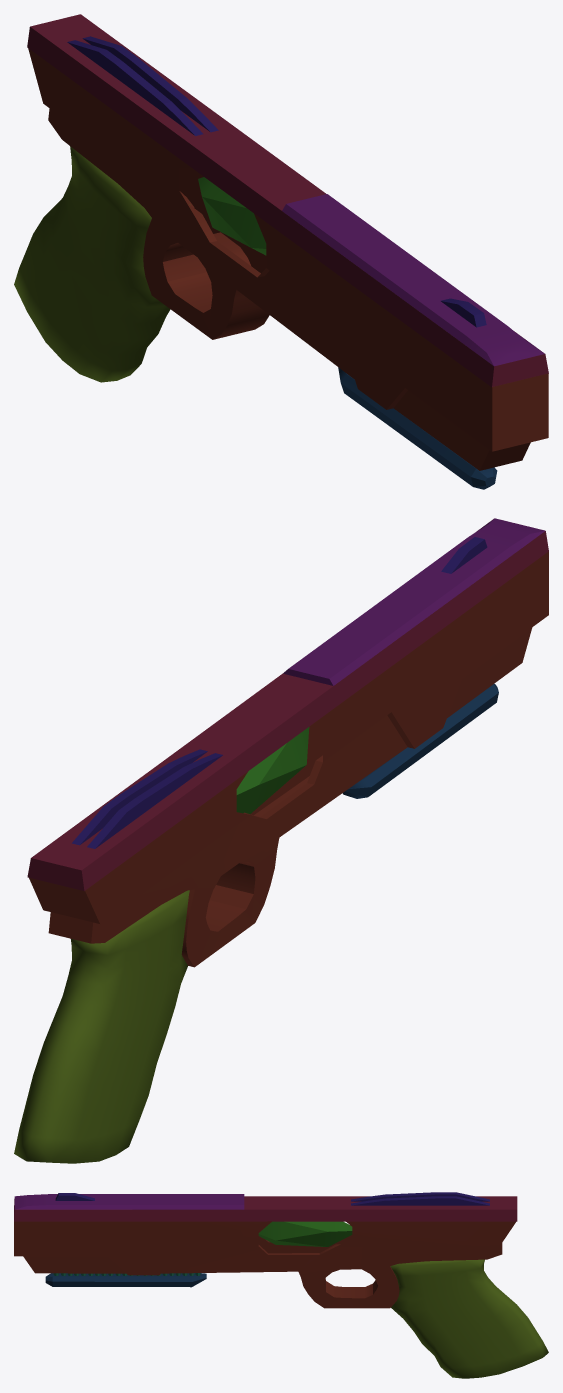
Rendered from LaserGunMesh.fbx.
3 renders of one model, top to bottom at view 1: azimuth 30°, elevation 25°; view 2: azimuth 150°, elevation 25°; view 3: azimuth 270°, elevation 25°, orthographic. The views are drawn at different scales.
Parts seen in each view (by area): view 1: GunMesh; view 2: GunMesh; view 3: GunMesh.
Part boxes in pixels (box(x1,y1,x2,y2)): GunMesh: box(14, 14, 548, 489); GunMesh: box(14, 518, 548, 1163); GunMesh: box(14, 1192, 548, 1378).
Bounding box in the file's own units: 0.9727 × 5.4 × 14.57.
